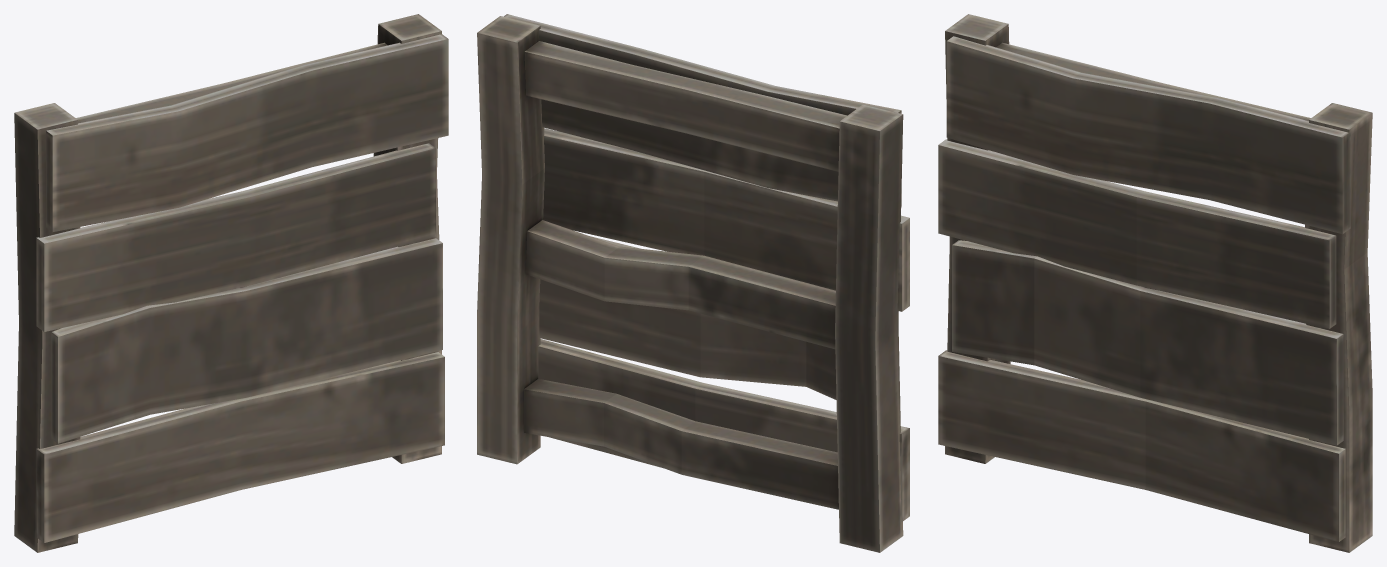
The model's file is Wood_ShortWall_1x.glb.
3 renders of one model, left to right at view 1: azimuth 30°, elevation 25°; view 2: azimuth 150°, elevation 25°; view 3: azimuth 330°, elevation 25°, orthographic.
Parts seen in each view (by area): view 1: Wood_ShortWall_1x; view 2: Wood_ShortWall_1x; view 3: Wood_ShortWall_1x.
Part boxes in pixels (bbox=[...]): Wood_ShortWall_1x: bbox=[14, 14, 448, 552]; Wood_ShortWall_1x: bbox=[477, 14, 909, 552]; Wood_ShortWall_1x: bbox=[938, 14, 1372, 552].
Size of what is drawn, in the model's own units: 1 by 1 by 0.1502.
1 material, 1 textured.
